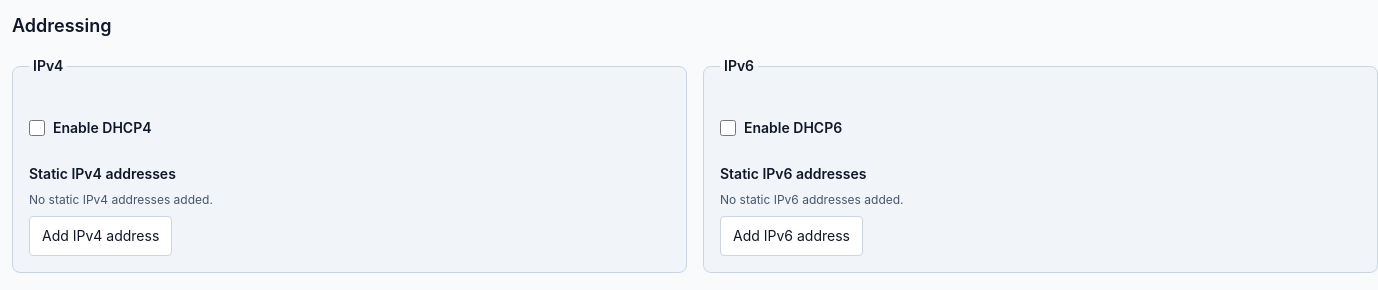
Test case: AddressingPanel › exposes independently labeled native DHCP controls
Click the text "Enable DHCP4".
click(102, 128)  # box x1=53 y1=118 x2=152 y2=138
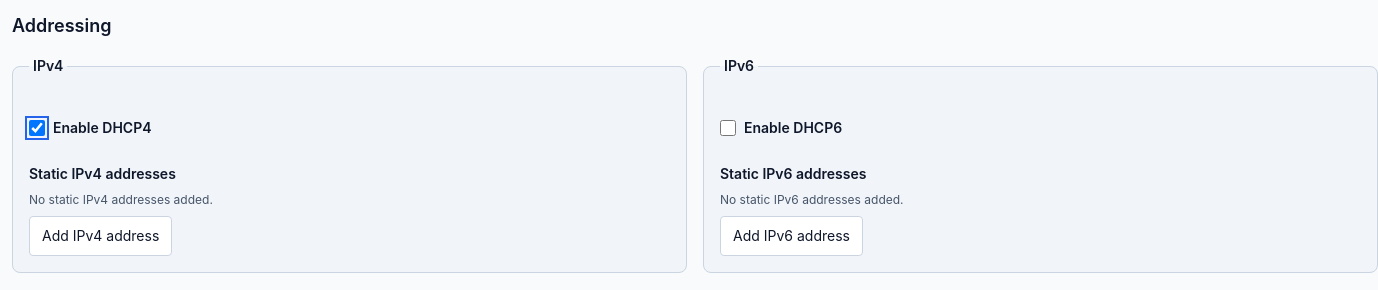
Expected: the checkbox labelled "Enable DHCP6" is not checked, x1=720 y1=120 x2=736 y2=136
Now the checkbox labelled "Enable DHCP4" is checked, box x1=29 y1=120 x2=45 y2=136
Click the text "Enable DHCP6".
click(793, 128)  # box x1=744 y1=118 x2=842 y2=138
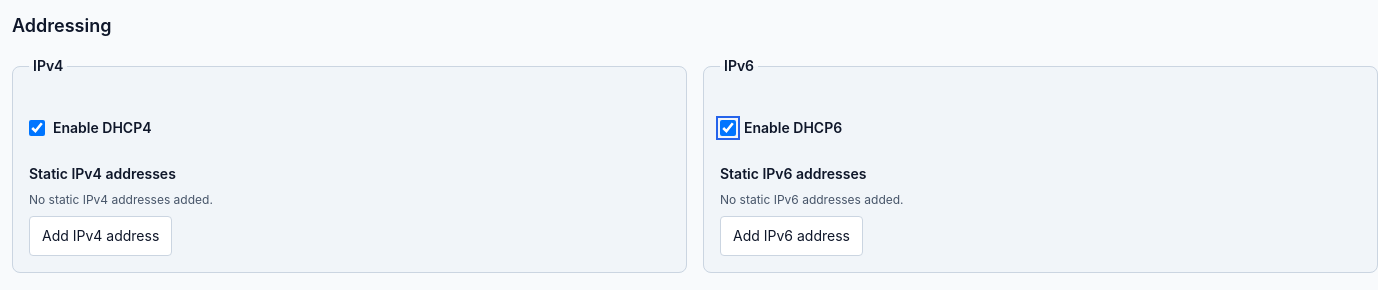
Now the checkbox labelled "Enable DHCP4" is checked, box x1=29 y1=120 x2=45 y2=136
Now the checkbox labelled "Enable DHCP6" is checked, box x1=720 y1=120 x2=736 y2=136
